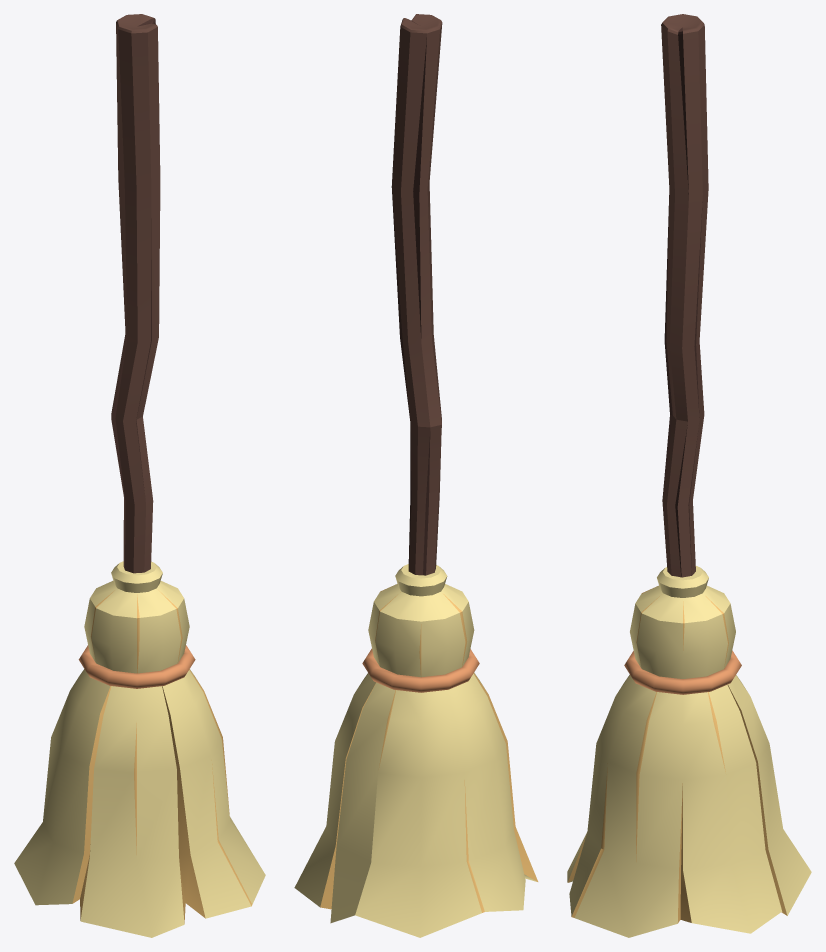
The model's file is witch.fbx.
The picture shows the model from 3 angles, left to right: view 1: azimuth 30°, elevation 25°; view 2: azimuth 150°, elevation 25°; view 3: azimuth 270°, elevation 25°; orthographic projection.
Parts seen in each view (by area): view 1: broom; view 2: broom; view 3: broom.
Boxes of the visible parts, x1,y1,x2,y2 form: broom: (14, 14, 265, 937); broom: (294, 14, 538, 937); broom: (567, 14, 811, 937).
Size of the model in its own units: 73.37 by 299 by 75.75.
